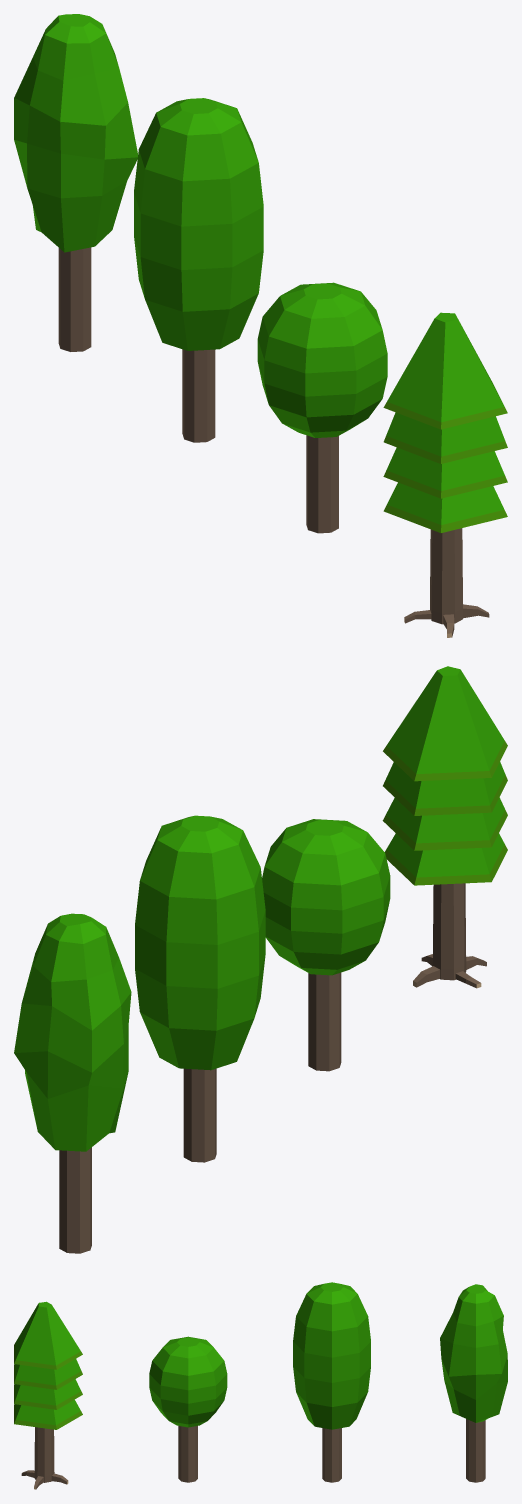
File: Trees_LowPoly.fbx
3 views of the same model, one above another, from view 1: azimuth 30°, elevation 25°; view 2: azimuth 150°, elevation 25°; view 3: azimuth 270°, elevation 25° (orthographic). The views are drawn at different scales.
Parts seen in each view (by area): view 1: Tree_LowPoly3, Tree_LowPoly4, Tree_LowPoly, Tree_LowPoly2; view 2: Tree_LowPoly3, Tree_LowPoly, Tree_LowPoly4, Tree_LowPoly2; view 3: Tree_LowPoly3, Tree_LowPoly4, Tree_LowPoly, Tree_LowPoly2.
Boxes of the visible parts, x1,y1,x2,y2 form: Tree_LowPoly3: (134, 98, 263, 442); Tree_LowPoly4: (14, 14, 137, 351); Tree_LowPoly: (383, 312, 507, 637); Tree_LowPoly2: (257, 282, 387, 533); Tree_LowPoly3: (135, 815, 265, 1162); Tree_LowPoly: (382, 666, 507, 988); Tree_LowPoly4: (14, 913, 131, 1253); Tree_LowPoly2: (262, 819, 390, 1071); Tree_LowPoly3: (293, 1282, 370, 1482); Tree_LowPoly4: (440, 1284, 507, 1482); Tree_LowPoly: (14, 1301, 82, 1489); Tree_LowPoly2: (149, 1336, 227, 1482).
Bounding box in the file's own units: 543 × 1481 × 3436.
Materials: 1 (1 with a texture image).
